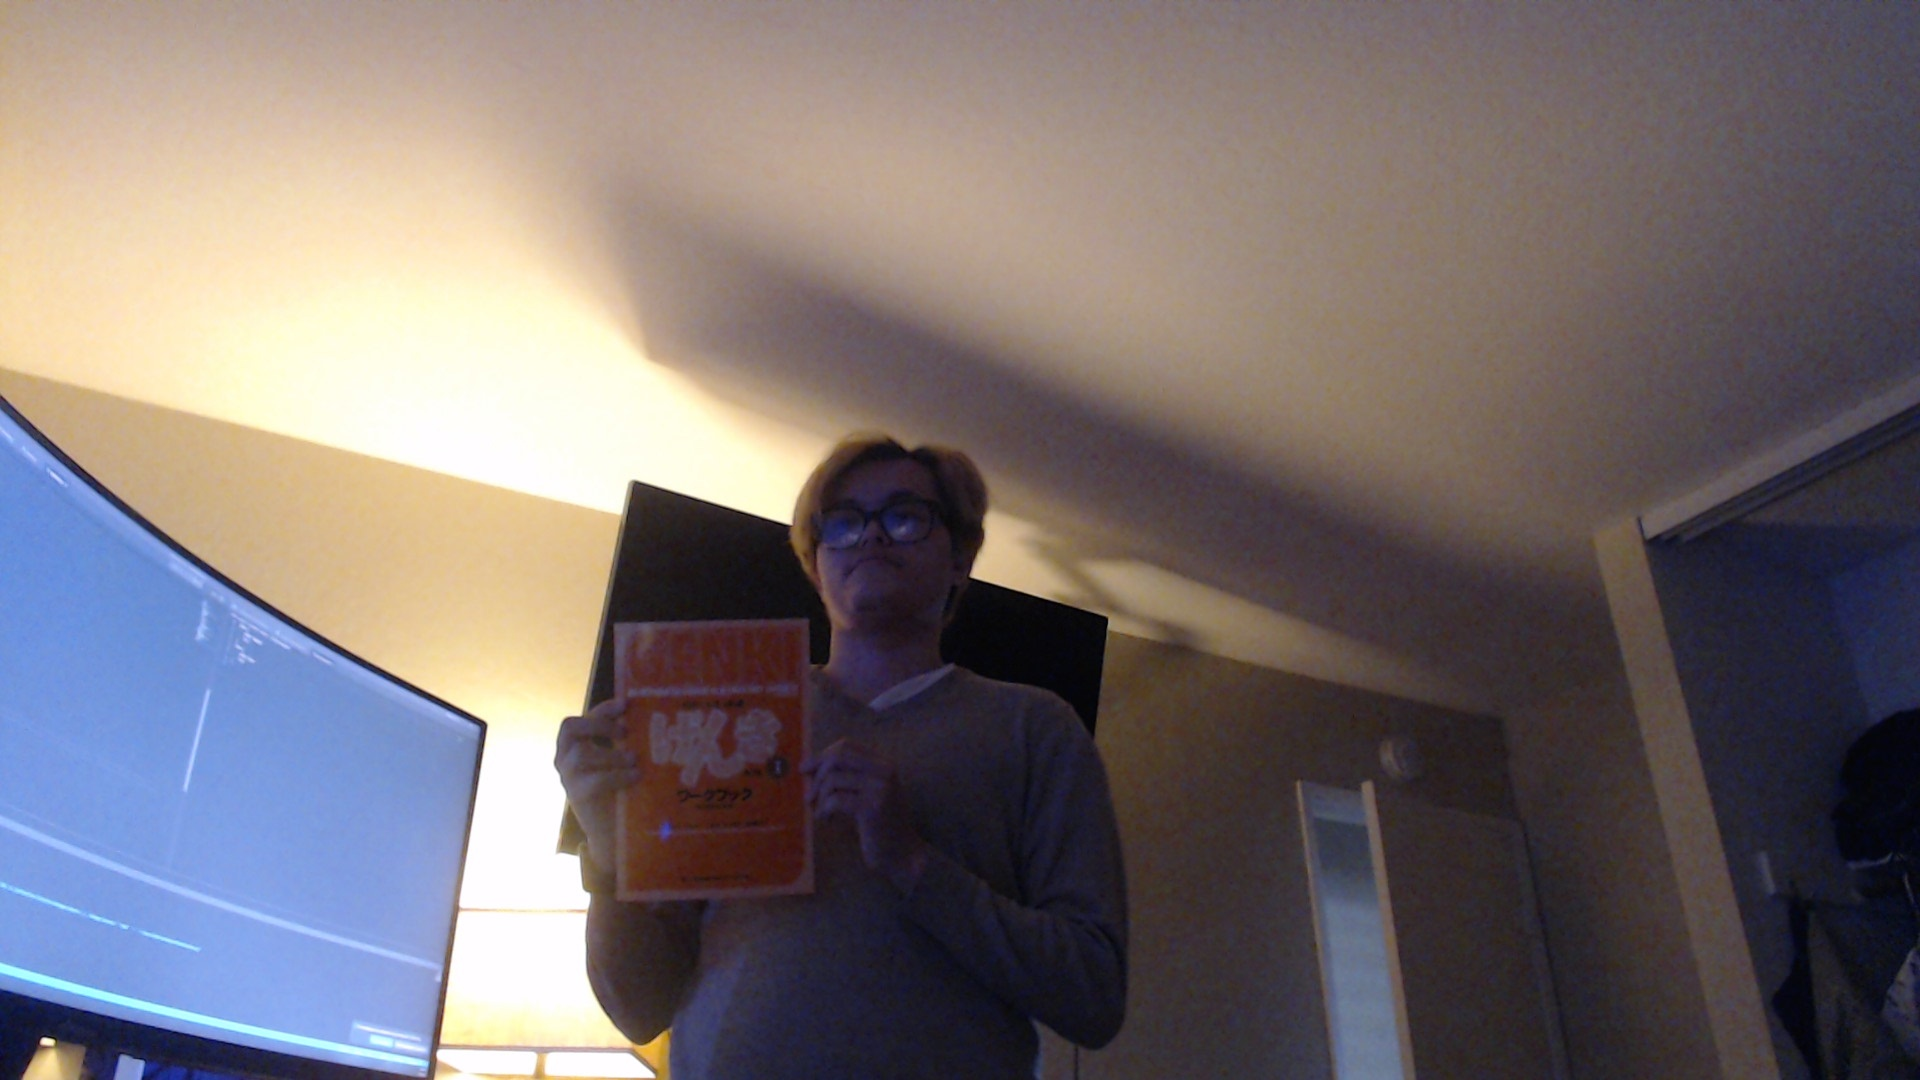book: (611, 615, 820, 903)
